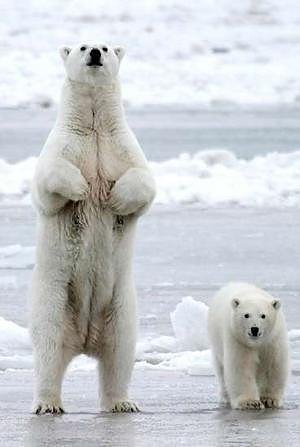Polar Bear: (25, 27, 172, 447), (209, 275, 293, 430)
